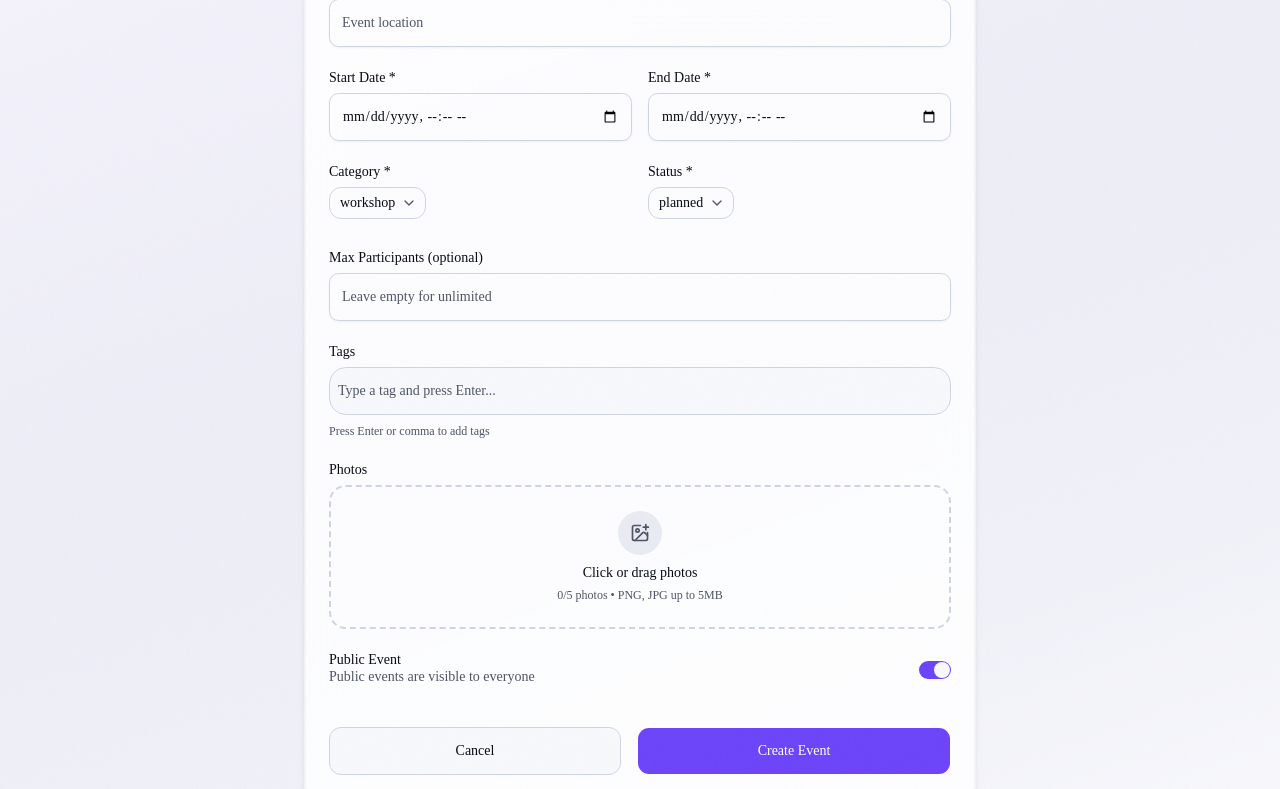
Create Event Form Validation › shows validation errors for empty required fields
(page scrolled)
// Submit without filling anything
Click the button "Create Event".
click(794, 751)  # box [637,727,951,775]
(page scrolled)
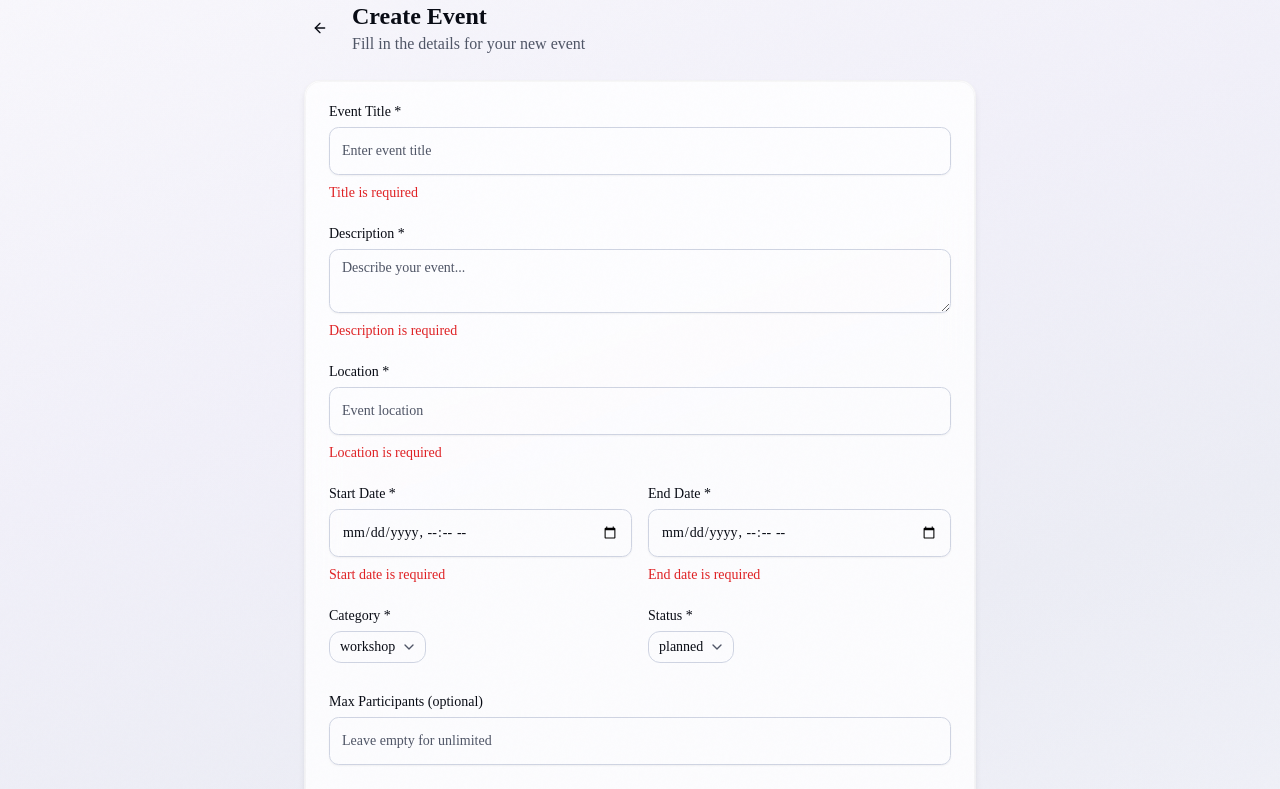
Now the text "Title is required" is shown, box [329,185,418,200]
Now the text "Description is required" is shown, box [329,323,457,338]
Now the text "Location is required" is shown, box [329,445,442,460]
